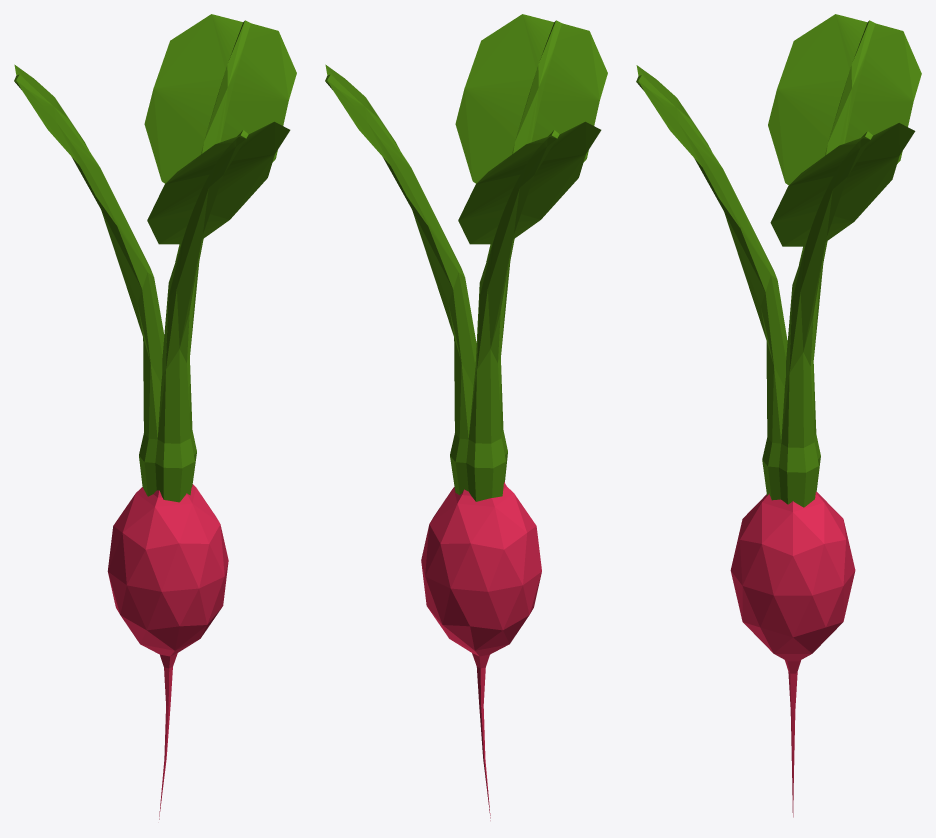
The model's file is radish.fbx.
3 views of the same model, side by side, from view 1: azimuth 30°, elevation 25°; view 2: azimuth 150°, elevation 25°; view 3: azimuth 270°, elevation 25° (orthographic).
Parts seen in each view (by area): view 1: radish; view 2: radish; view 3: radish.
Boxes of the visible parts, box(x1,y1,x2,y2) form: radish: box(14, 14, 296, 819); radish: box(325, 14, 607, 820); radish: box(636, 14, 921, 817).
Bounding box in the file's own units: 241 × 666 × 229.
